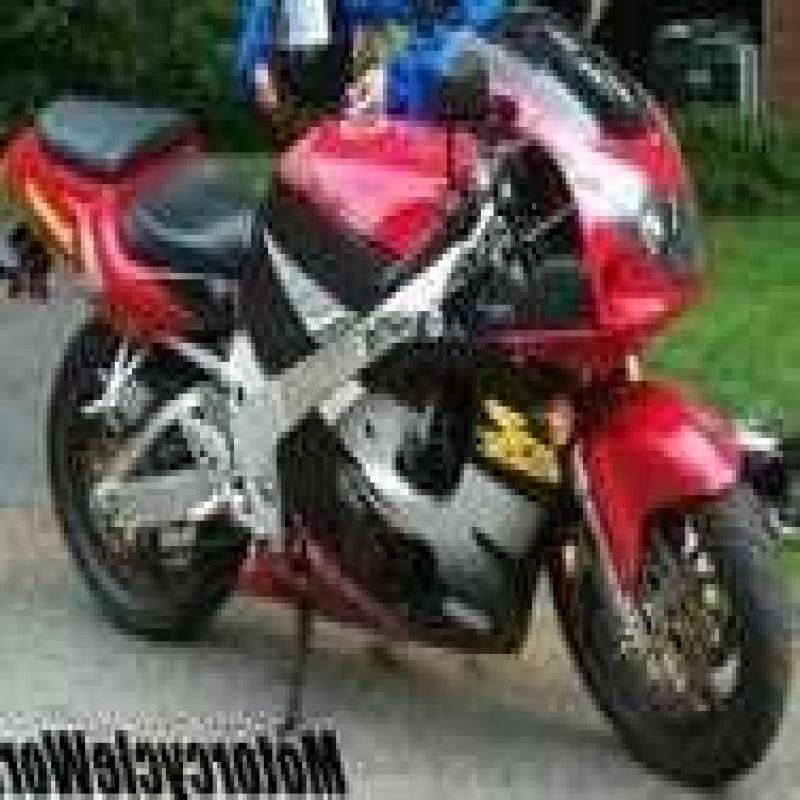bike: (42, 31, 800, 755)
